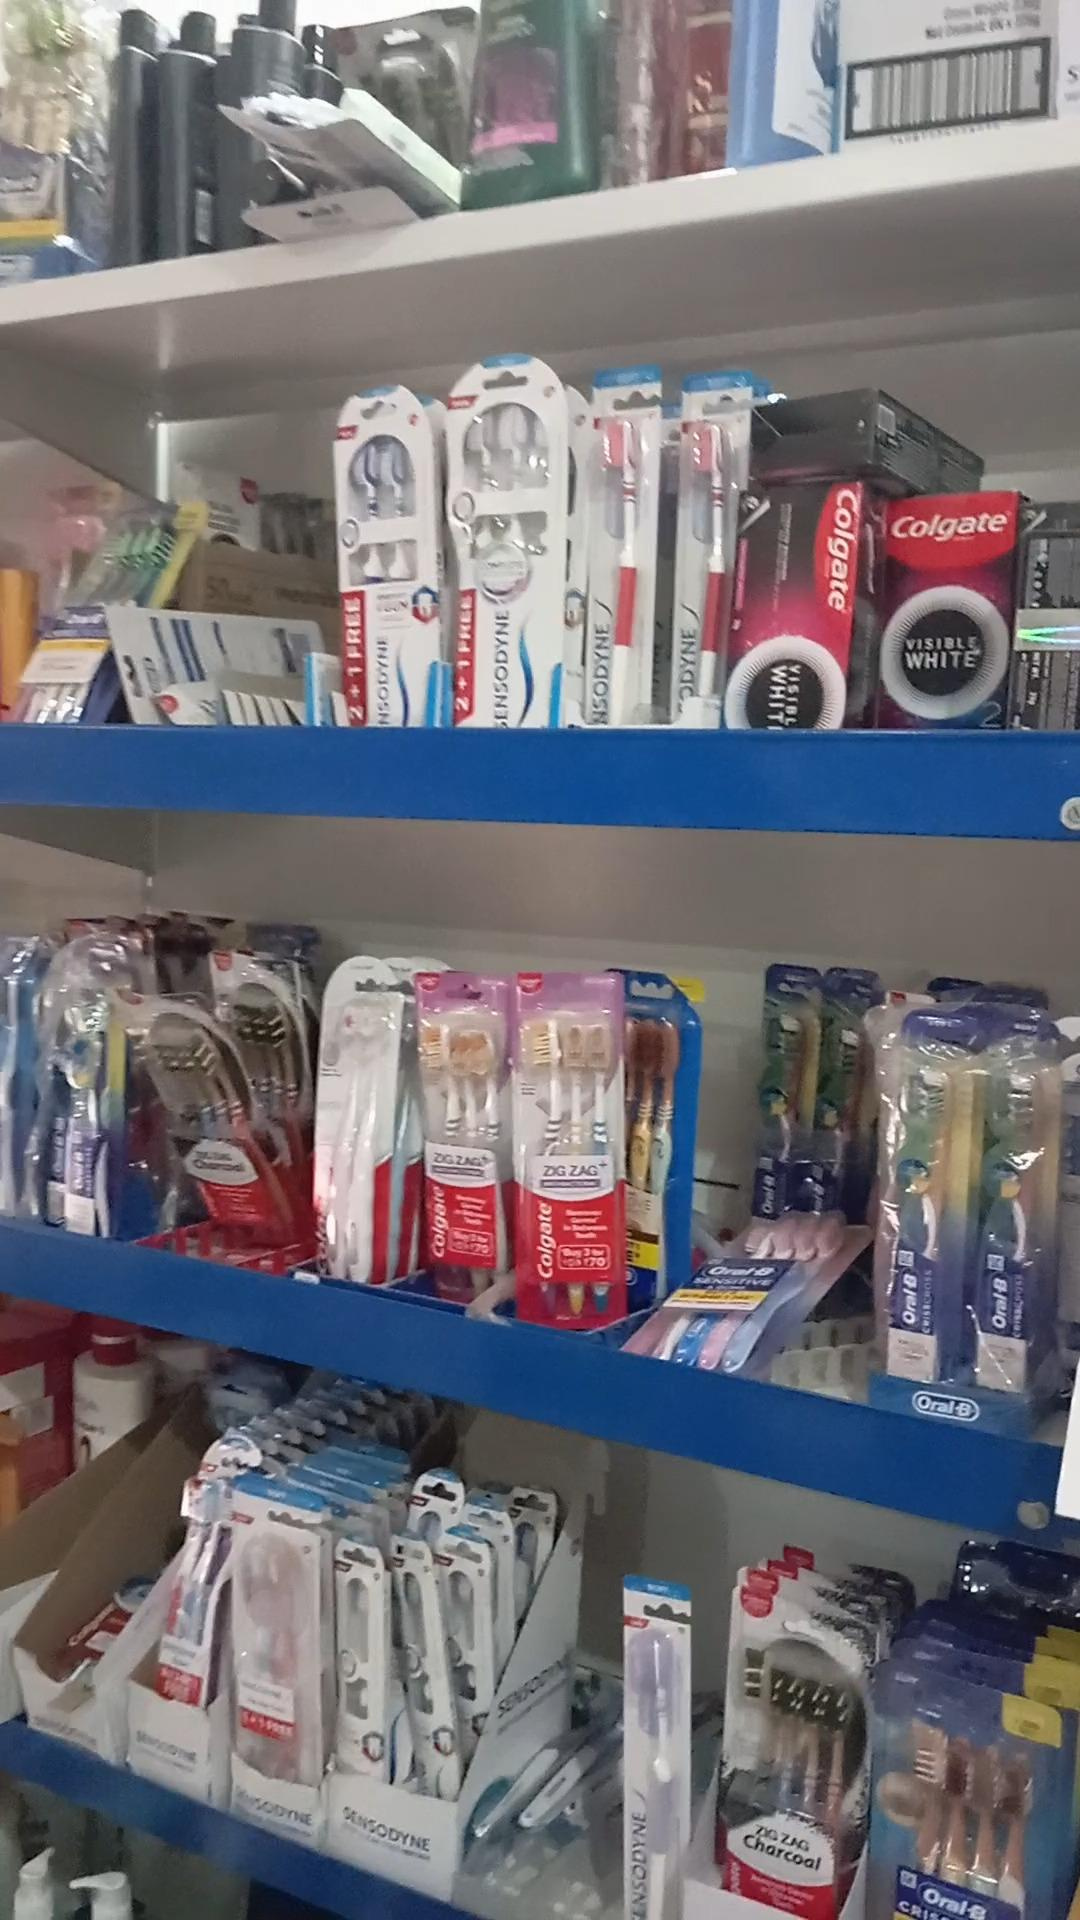16: (332, 385, 440, 732)
4: (447, 352, 564, 727)
6: (162, 1445, 223, 1706)
7: (229, 1478, 323, 1780)
9: (891, 1018, 964, 1385), (985, 1014, 1052, 1389), (67, 948, 119, 1236)
liquid soap: (728, 1589, 860, 1916), (133, 992, 253, 1238)
